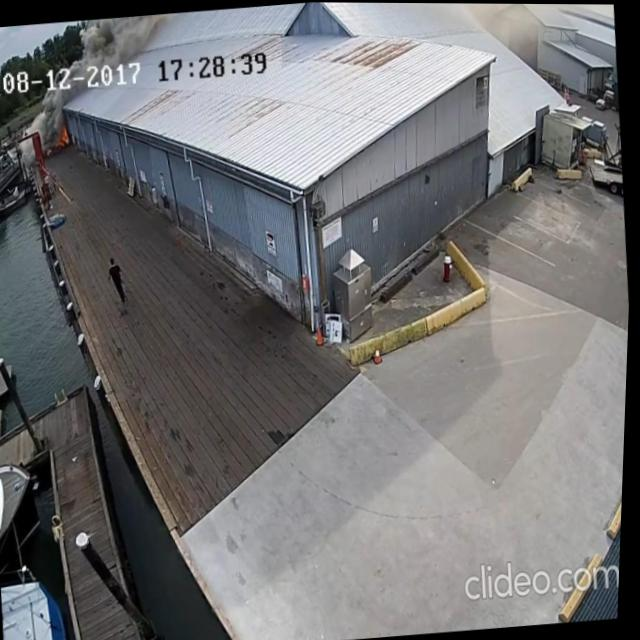fire: (54, 123, 74, 148)
